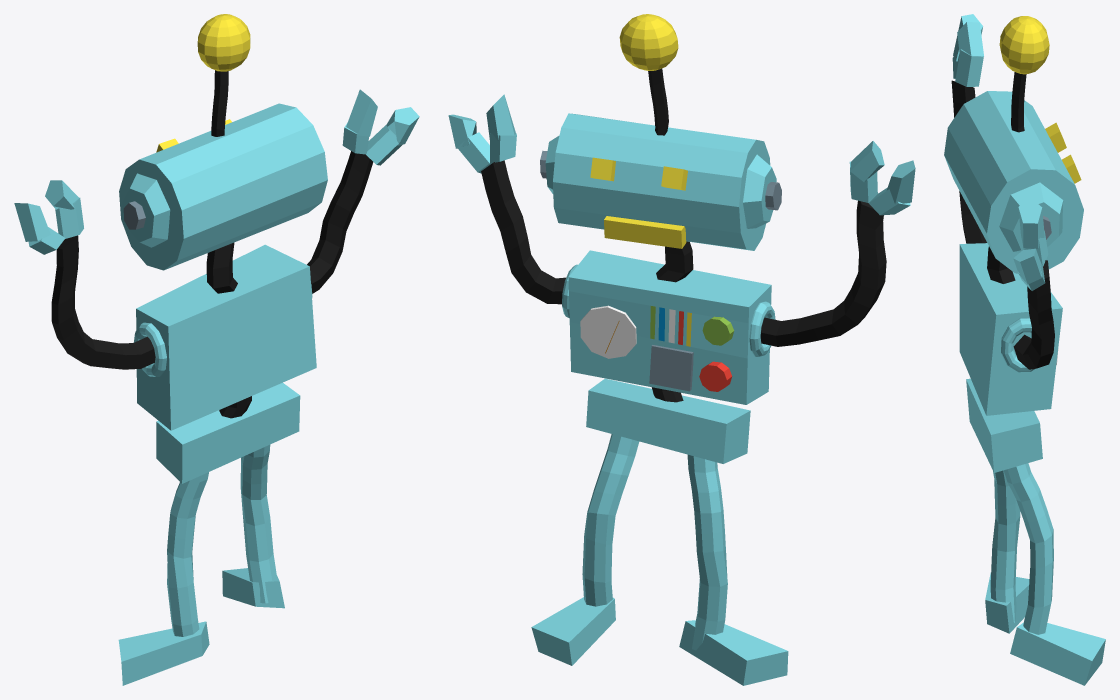
Rendered from Level3_bluestrobot.fbx.
3 views of the same model, side by side, from view 1: azimuth 30°, elevation 25°; view 2: azimuth 150°, elevation 25°; view 3: azimuth 270°, elevation 25° (orthographic). The views are drawn at different scales.
Parts seen in each view (by area): view 1: group364283973; view 2: group364283973; view 3: group364283973.
Part boxes in pixels (x1=…): group364283973: x1=14, y1=14, x2=419, y2=685; group364283973: x1=448, y1=14, x2=915, y2=685; group364283973: x1=944, y1=14, x2=1105, y2=685.
Bounding box in the file's own units: 18192 × 25509 × 5862.
